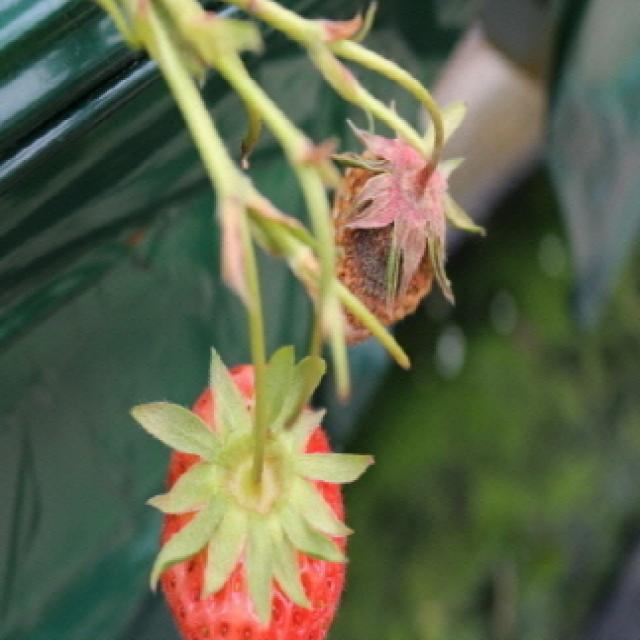Gray Mold: (319, 117, 456, 342)
